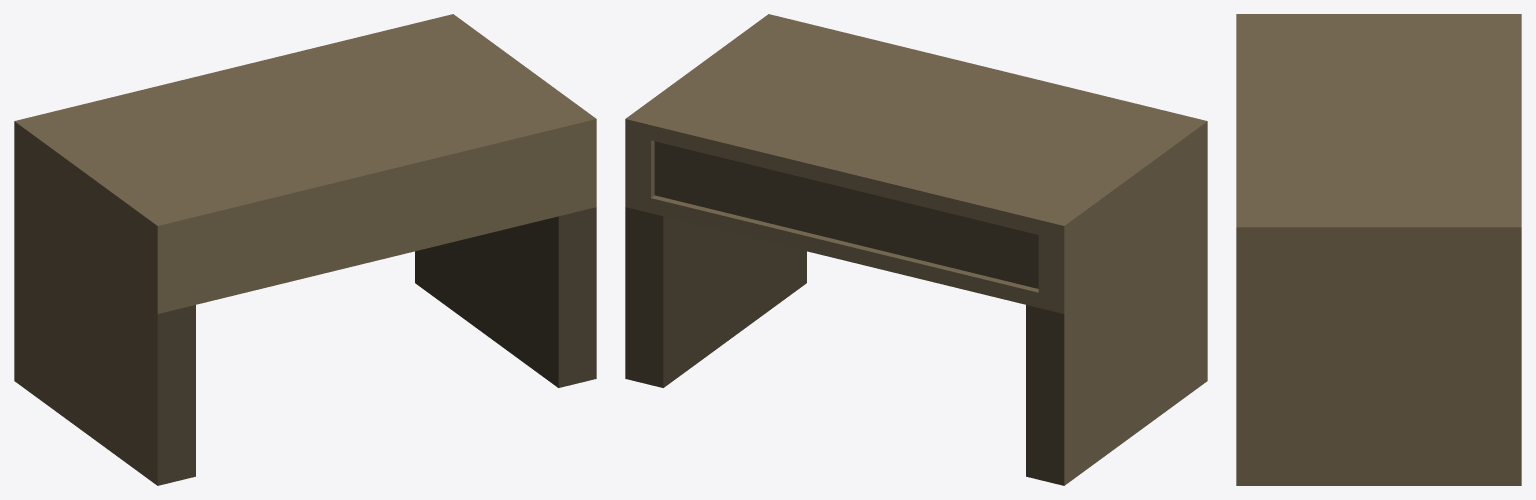
File: desktop.fbx
The picture shows the model from 3 angles, left to right: view 1: azimuth 30°, elevation 25°; view 2: azimuth 150°, elevation 25°; view 3: azimuth 270°, elevation 25°; orthographic projection.
Visible parts, largest first — view 1: desktop; view 2: desktop; view 3: desktop.
Boxes of the visible parts, x1,y1,x2,y2 form: desktop: (14, 14, 596, 485); desktop: (625, 14, 1207, 485); desktop: (1236, 14, 1521, 485).
Bounding box in the file's own units: 3.54 × 2 × 2.
